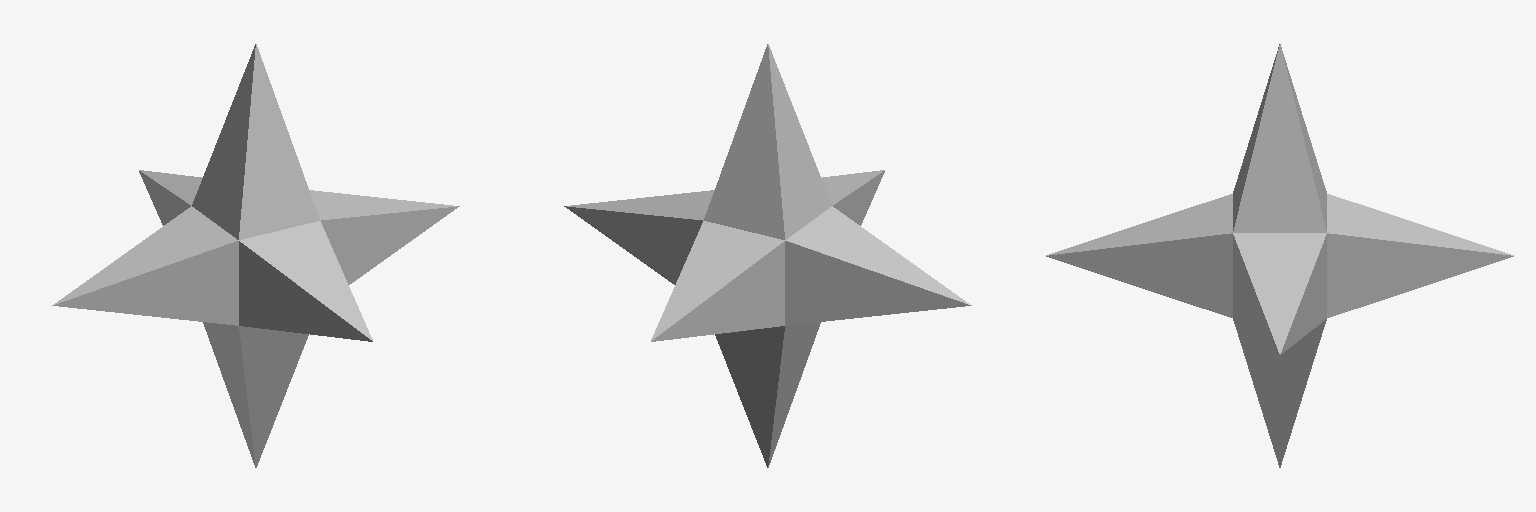
The model's file is star.obj.
3 views of the same model, side by side, from view 1: azimuth 30°, elevation 25°; view 2: azimuth 150°, elevation 25°; view 3: azimuth 270°, elevation 25° (orthographic).
Visible parts, largest first — view 1: Cube_Cube.001; view 2: Cube_Cube.001; view 3: Cube_Cube.001.
Part boxes in pixels (left/top/right/bottom): Cube_Cube.001: left=52, top=44, right=459, bottom=467; Cube_Cube.001: left=564, top=44, right=971, bottom=467; Cube_Cube.001: left=1046, top=44, right=1513, bottom=467.
Bounding box in the file's own units: 10 × 10 × 10.